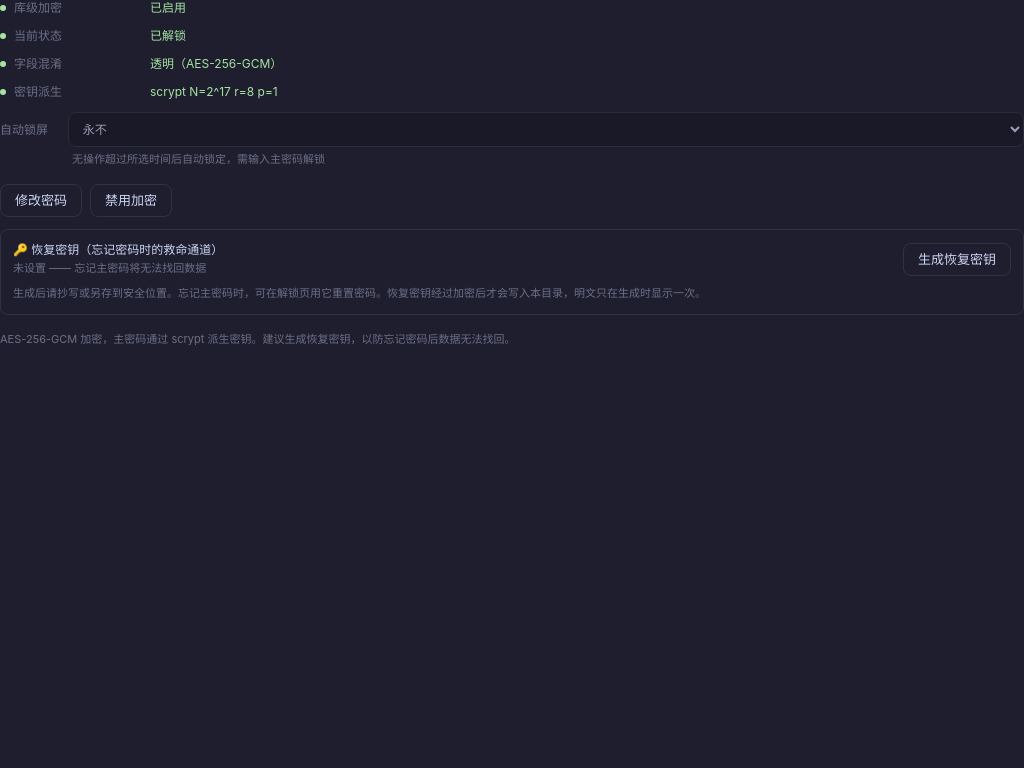
Test: 385 设置页：禁用加密那一发的 toast（它同样是一次换钥：fixed key 重包） › 回值带 1 项 ⇒ 「已禁用」盖不住那一句
Click the button "禁用加密" at (131, 200), box [90,184,172,217]
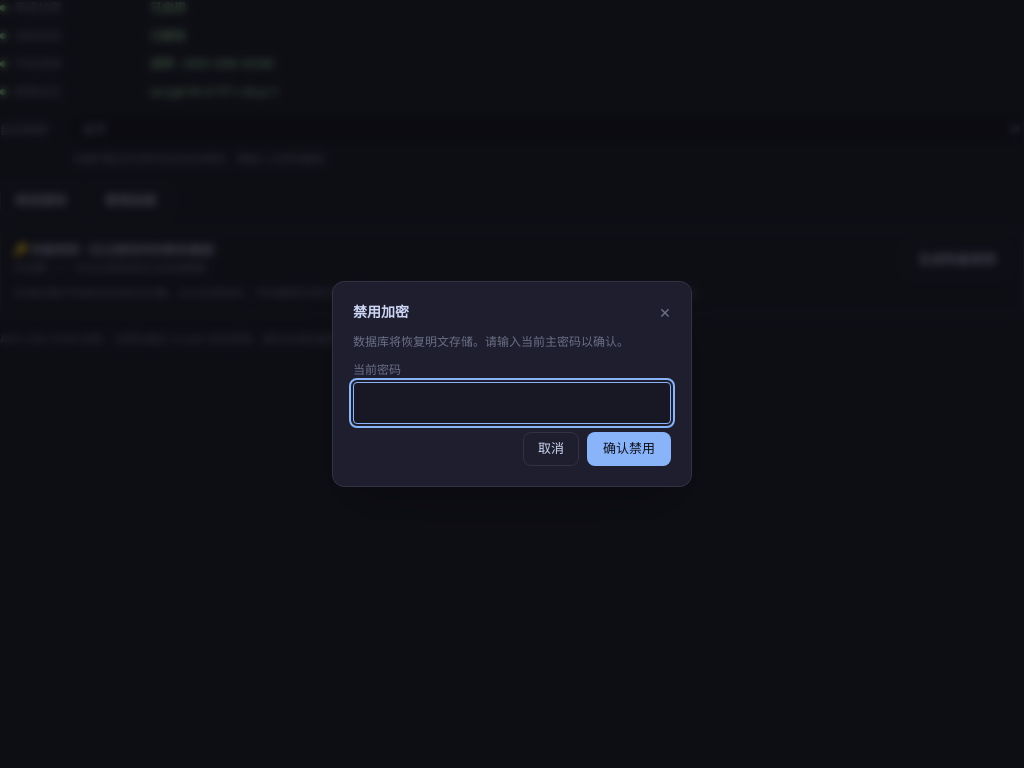
Type "current-master-pwd" into the password field at (512, 403), box [353,382,671,424]
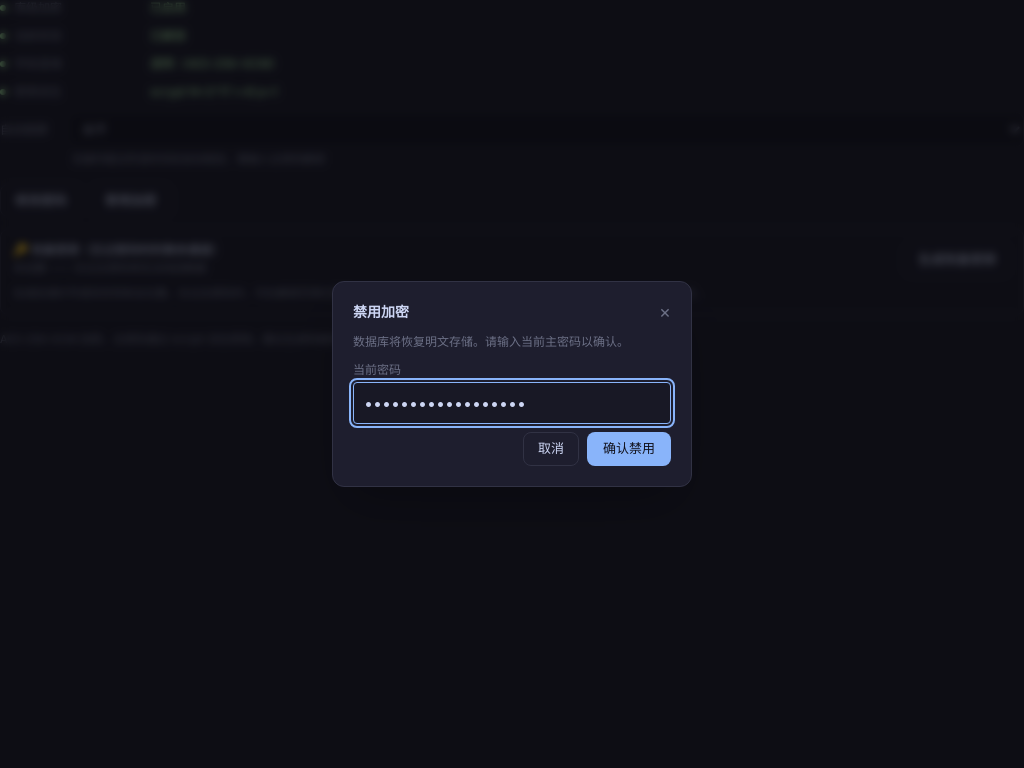
Click the button "确认禁用" at (629, 449), box [587,432,671,466]
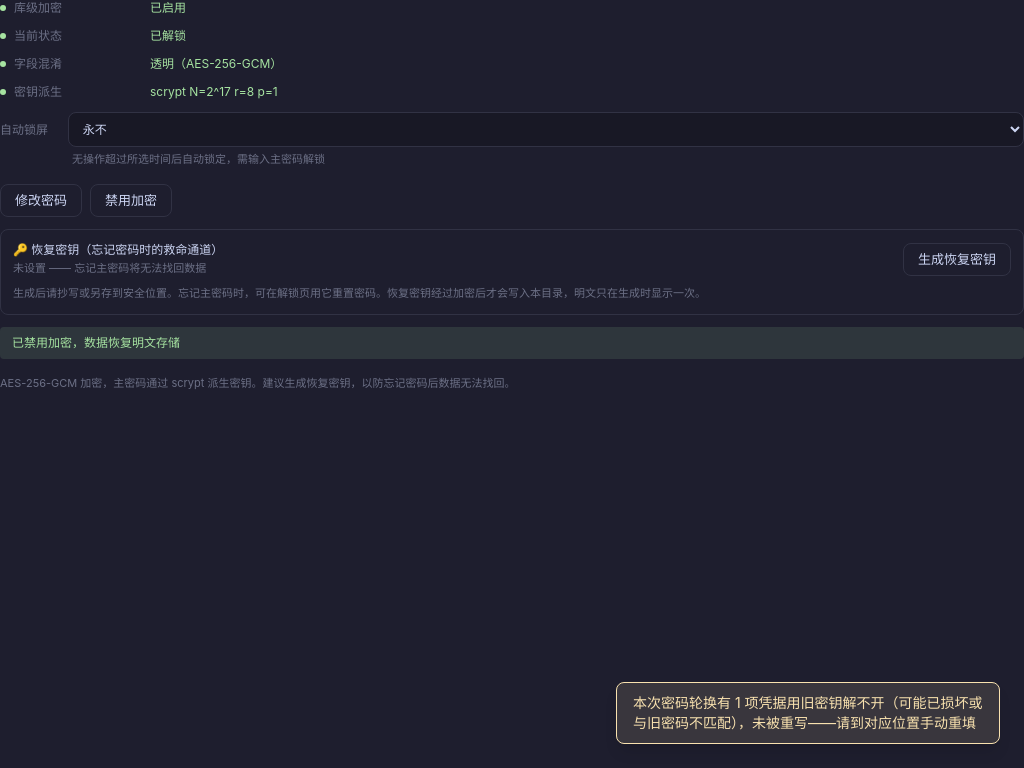
Check: the text "已禁用加密，数据恢复明文存储" is shown, box [0,327,1023,359]
